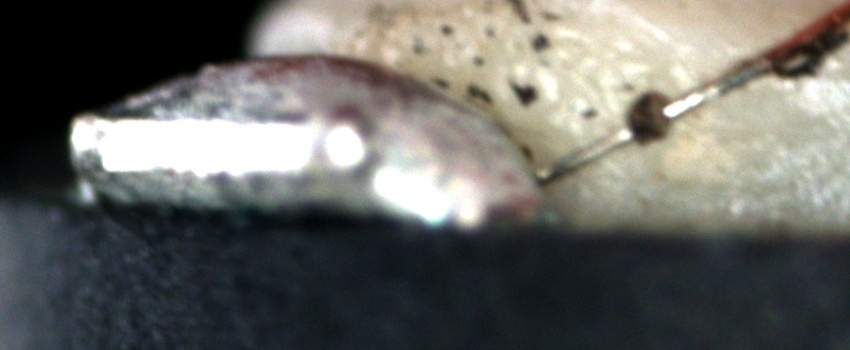DL: (761, 54, 849, 118)
TS: (536, 58, 768, 185)
